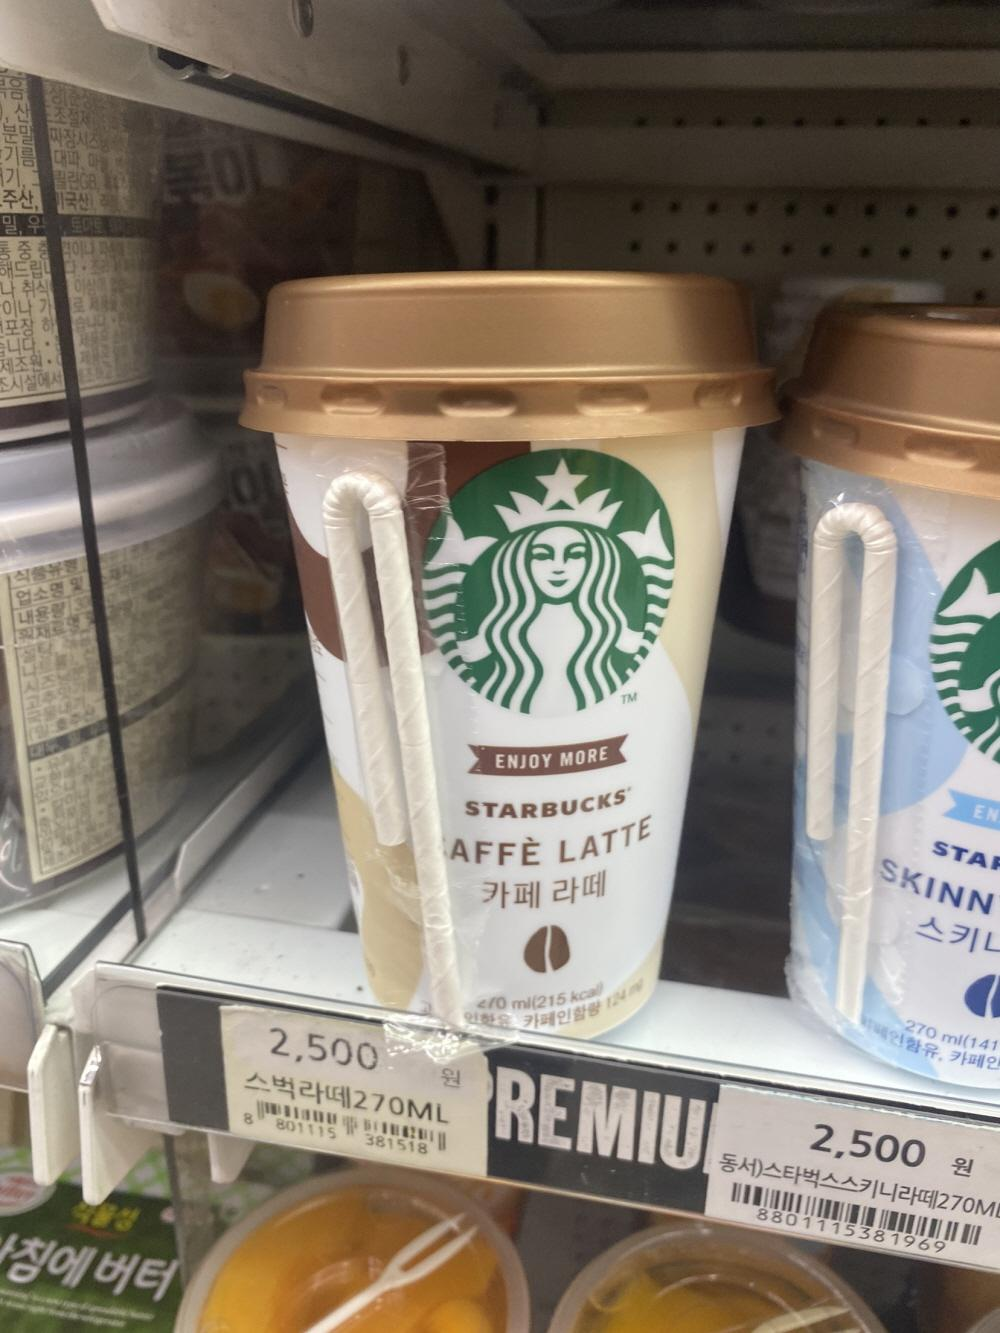starbucks_cafelatte: (231, 274, 805, 1035)
